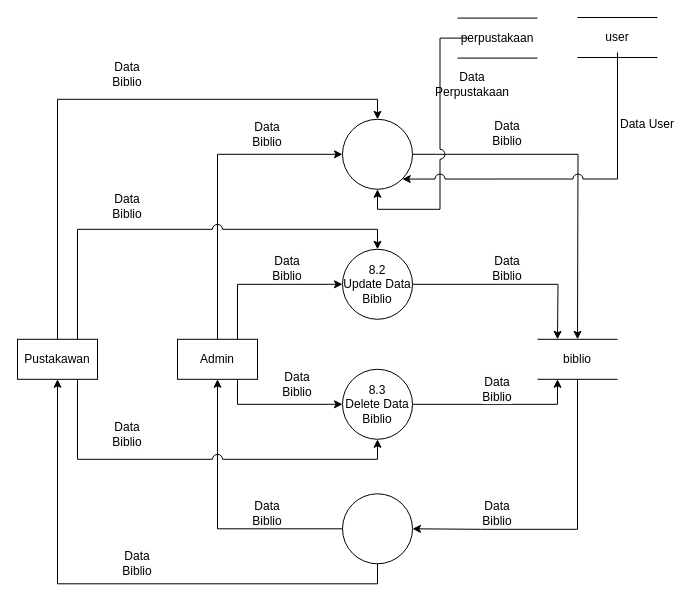
This 695x610 diagram has some shape labels left out. The centre of each missing label's shape, as x and y in pixels:
"8.1 Insert Data Biblio" goes at (377,153).
"8.4 View Data Biblio" goes at (377,528).
